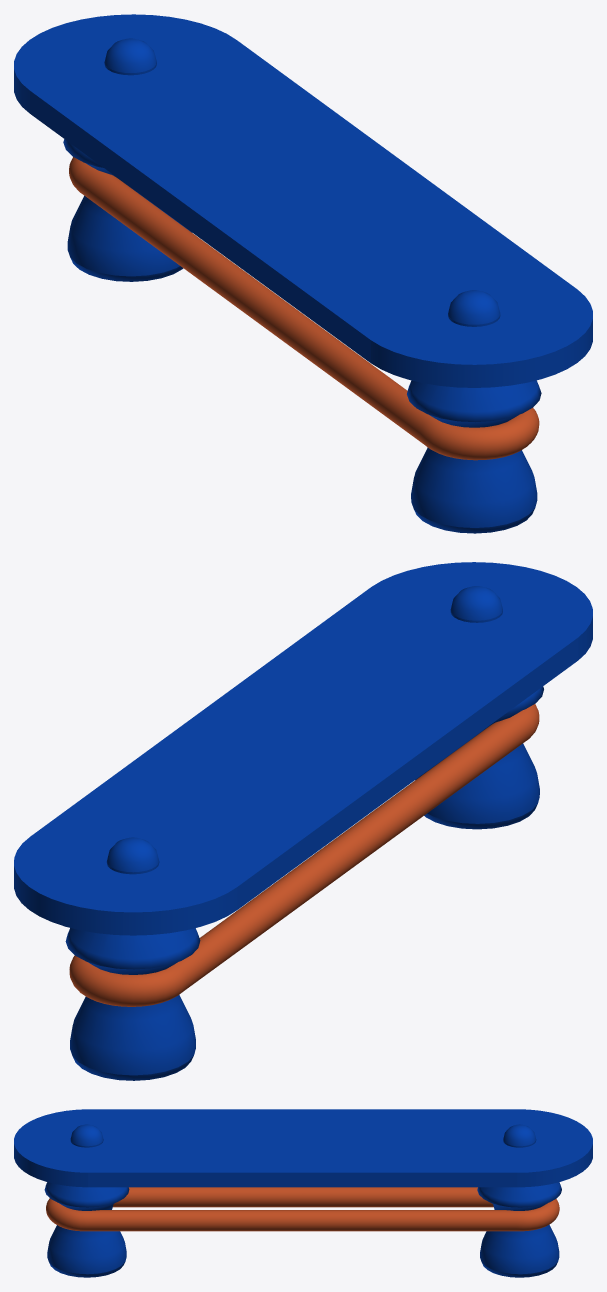
File: SM_Band1.FBX
3 views of the same model, one above another, from view 1: azimuth 30°, elevation 25°; view 2: azimuth 150°, elevation 25°; view 3: azimuth 270°, elevation 25° (orthographic). The views are drawn at different scales.
Parts seen in each view (by area): view 1: SM_Band1; view 2: SM_Band1; view 3: SM_Band1.
Part boxes in pixels (x1,y1,x2,y2): SM_Band1: (14,14,592,533); SM_Band1: (14,562,592,1080); SM_Band1: (14,1109,592,1277).
Size of the model in its own units: 140 by 540 by 141.
